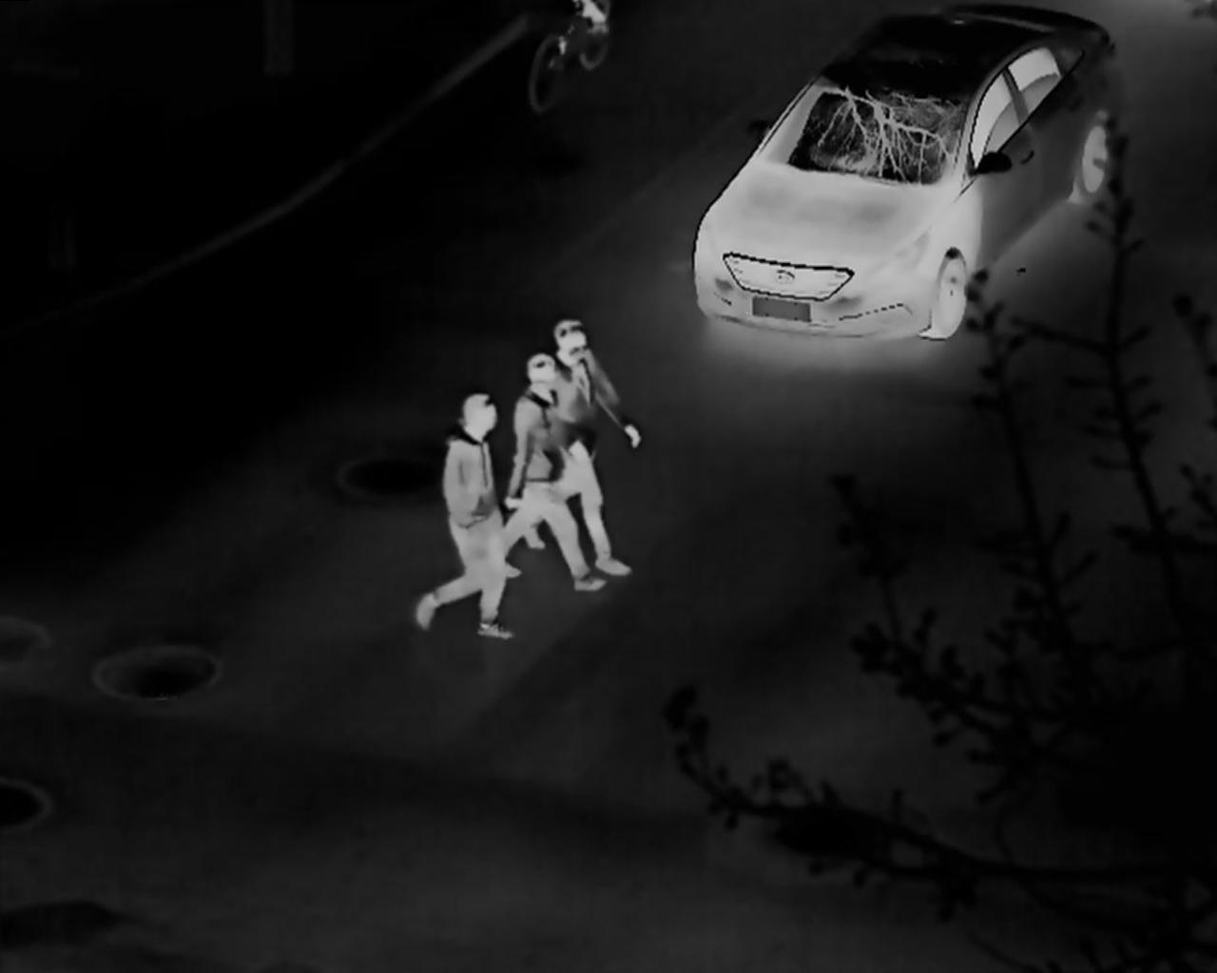person: (500, 351, 606, 596), (412, 391, 513, 640), (553, 319, 640, 577)
